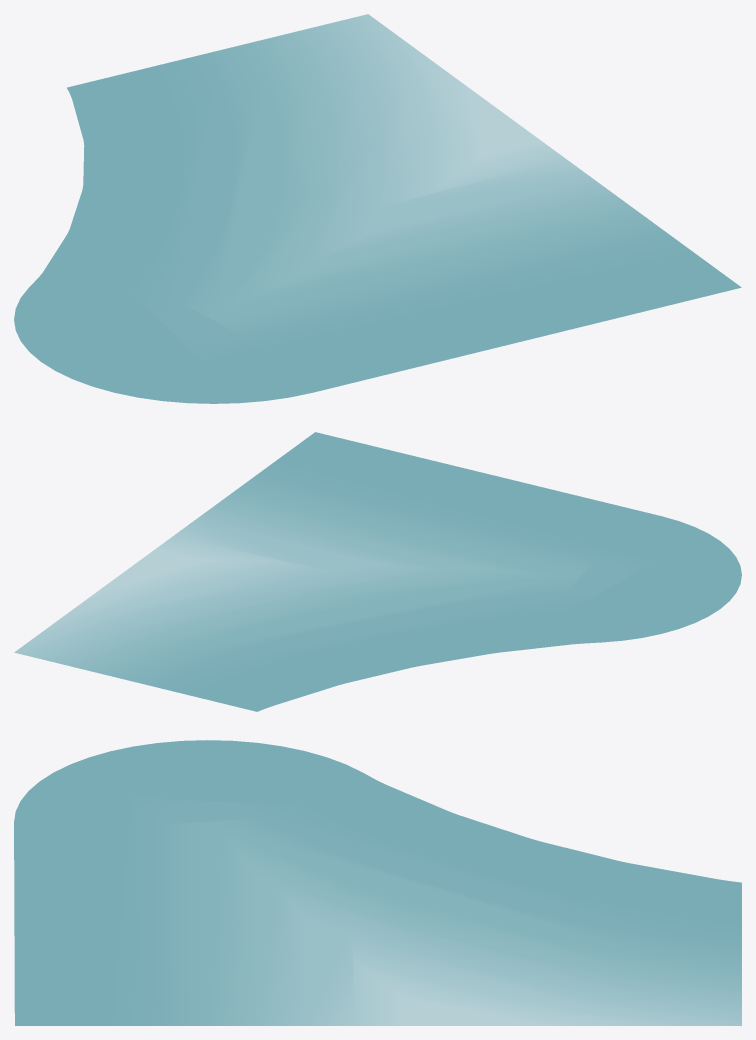
The picture shows the model from 3 angles, top to bottom: view 1: azimuth 30°, elevation 25°; view 2: azimuth 150°, elevation 25°; view 3: azimuth 270°, elevation 25°; orthographic projection. The views are drawn at different scales.
Parts seen in each view (by area): view 1: city; view 2: city; view 3: city.
Boxes of the visible parts, x1,y1,x2,y2 form: city: [14, 14, 741, 403]; city: [14, 432, 741, 711]; city: [14, 740, 741, 1025].
Bounding box in the file's own units: 418 × 0 × 450.
